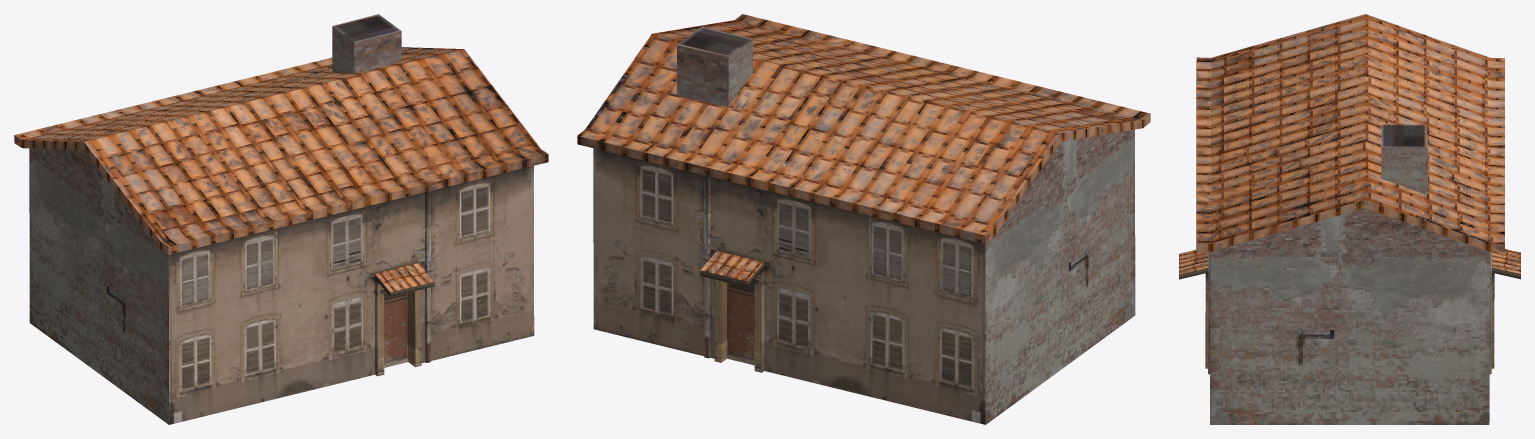
File: Building2.fbx
3 views of the same model, side by side, from view 1: azimuth 30°, elevation 25°; view 2: azimuth 150°, elevation 25°; view 3: azimuth 270°, elevation 25° (orthographic). The views are drawn at different scales.
Parts seen in each view (by area): view 1: Building2; view 2: Building2; view 3: Building2.
Boxes of the visible parts, <box> form: Building2: <box>14,14,548,424</box>; Building2: <box>577,14,1150,424</box>; Building2: <box>1179,14,1520,424</box>.
Bounding box in the file's own units: 590 × 376 × 458.
